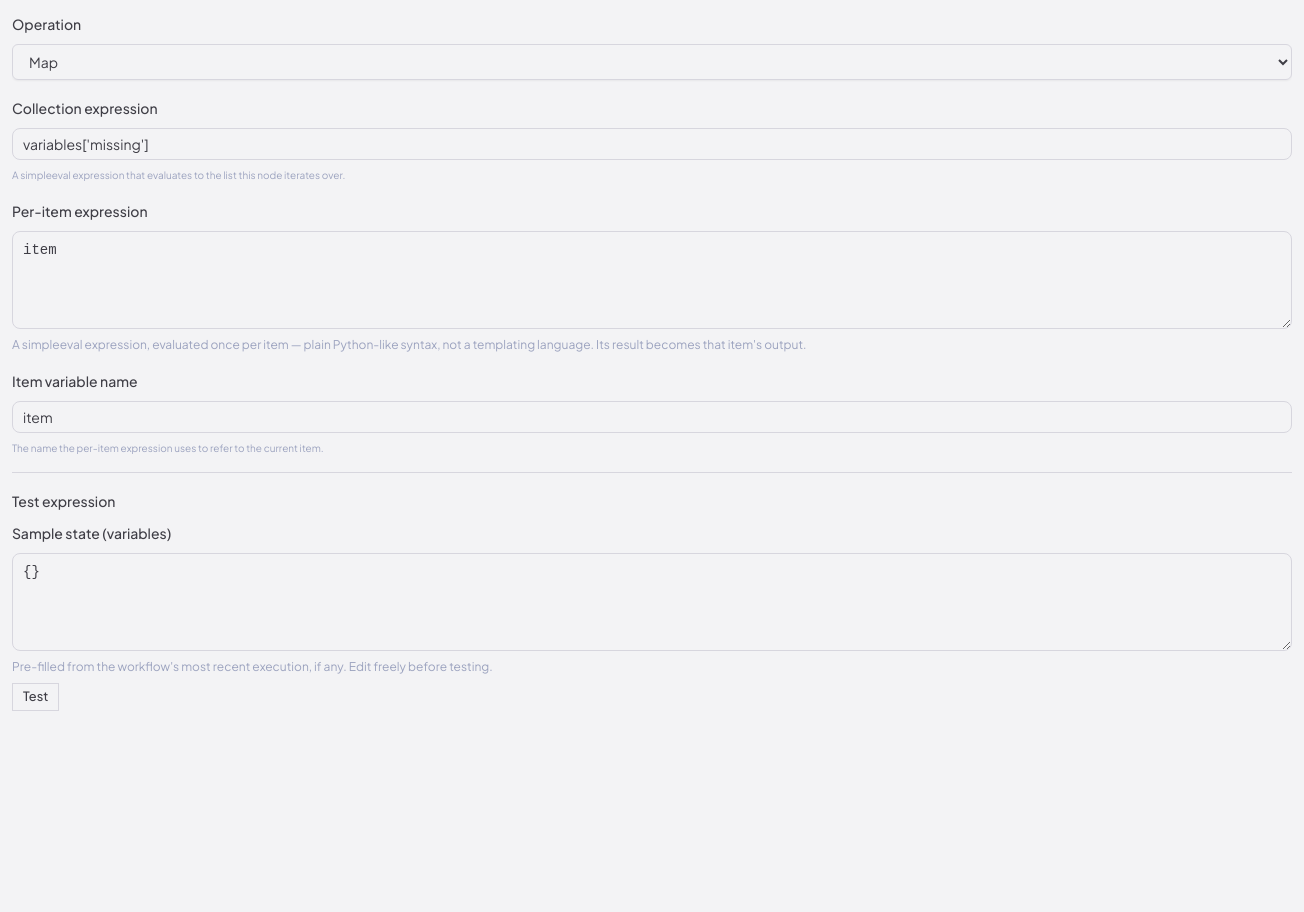
Scenario: DataTransformPanel › shows the error message on a failed test
Click the button "Test".
click(36, 697)  # box [12,683,59,711]
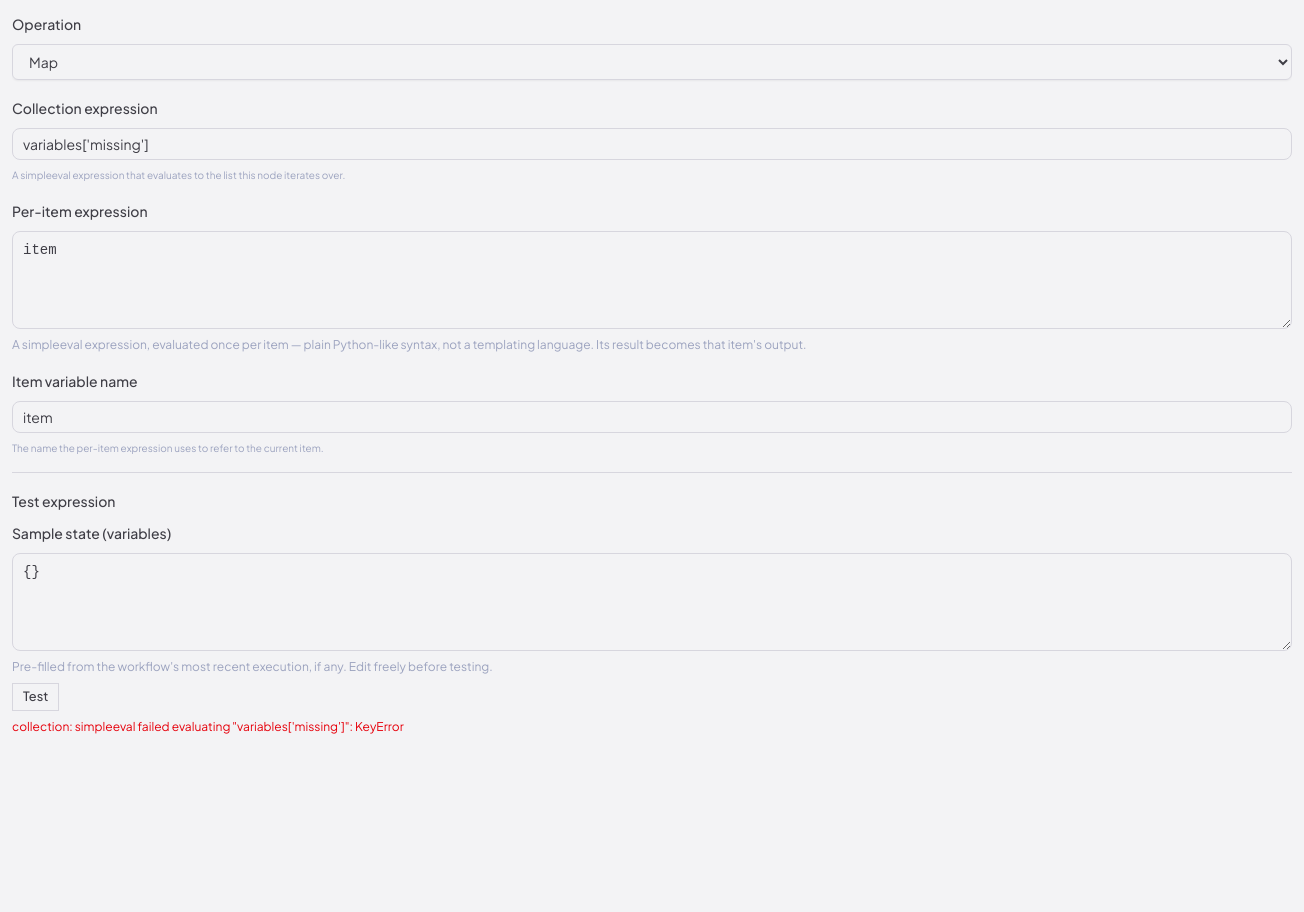
Check: the text "KeyError" is shown, box [12,719,404,734]
